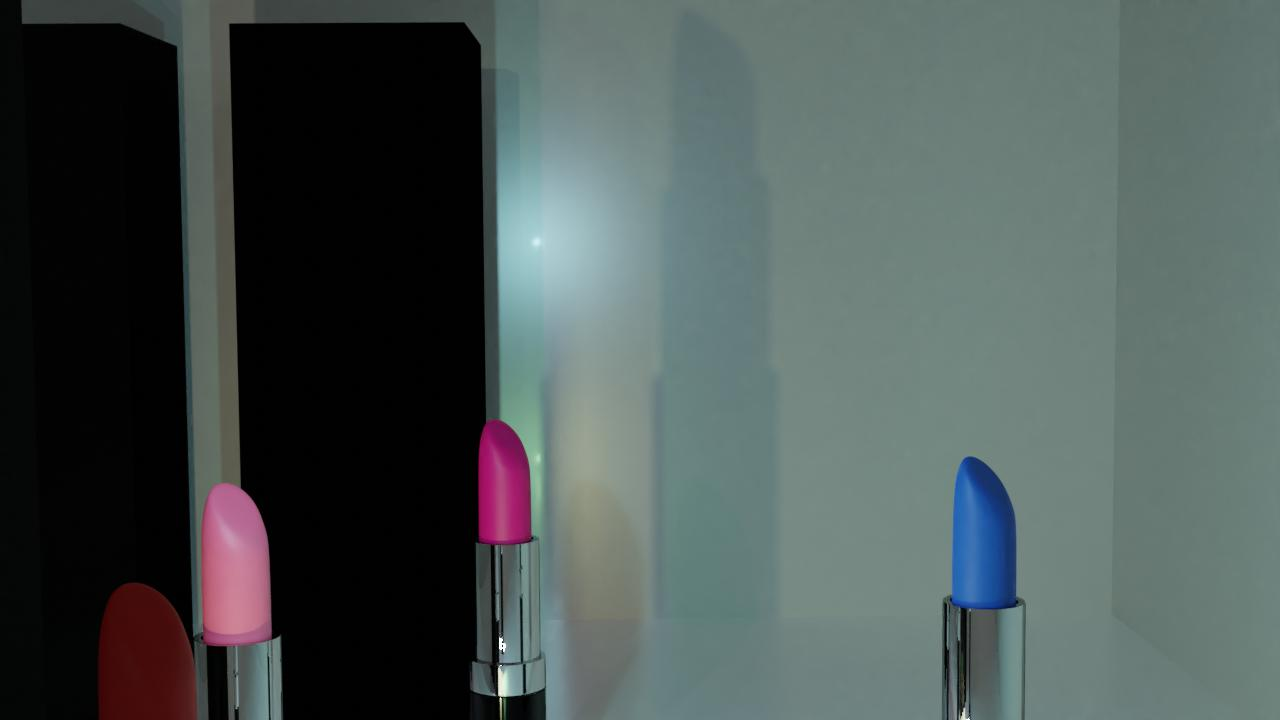CLASSIFIER_NAME: (933, 450, 1033, 720), (188, 476, 298, 720), (467, 414, 548, 720), (81, 573, 240, 720)
